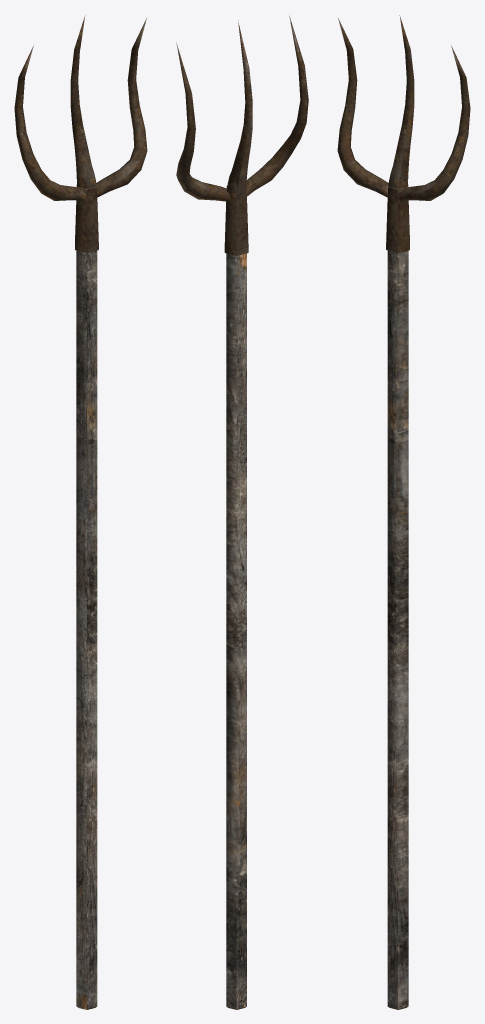
File: PitchFork.fbx
3 views of the same model, side by side, from view 1: azimuth 30°, elevation 25°; view 2: azimuth 210°, elevation 25°; view 3: azimuth 330°, elevation 25° (orthographic).
Visible parts, largest first — view 1: polySurface8; view 2: polySurface8; view 3: polySurface8.
Boxes of the visible parts, x1,y1,x2,y2 form: polySurface8: (14, 15, 147, 1009); polySurface8: (176, 16, 308, 1009); polySurface8: (337, 15, 470, 1009).
Bounding box in the file's own units: 23.18 × 180 × 7.29.
